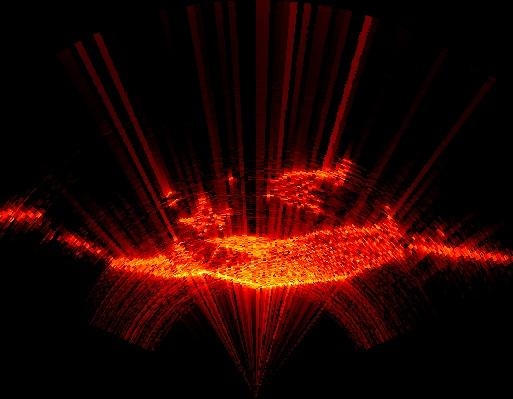shipwreck: (110, 198, 510, 286), (273, 166, 348, 210)
